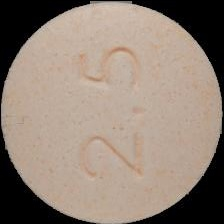51079-872: (0, 0, 224, 224)
